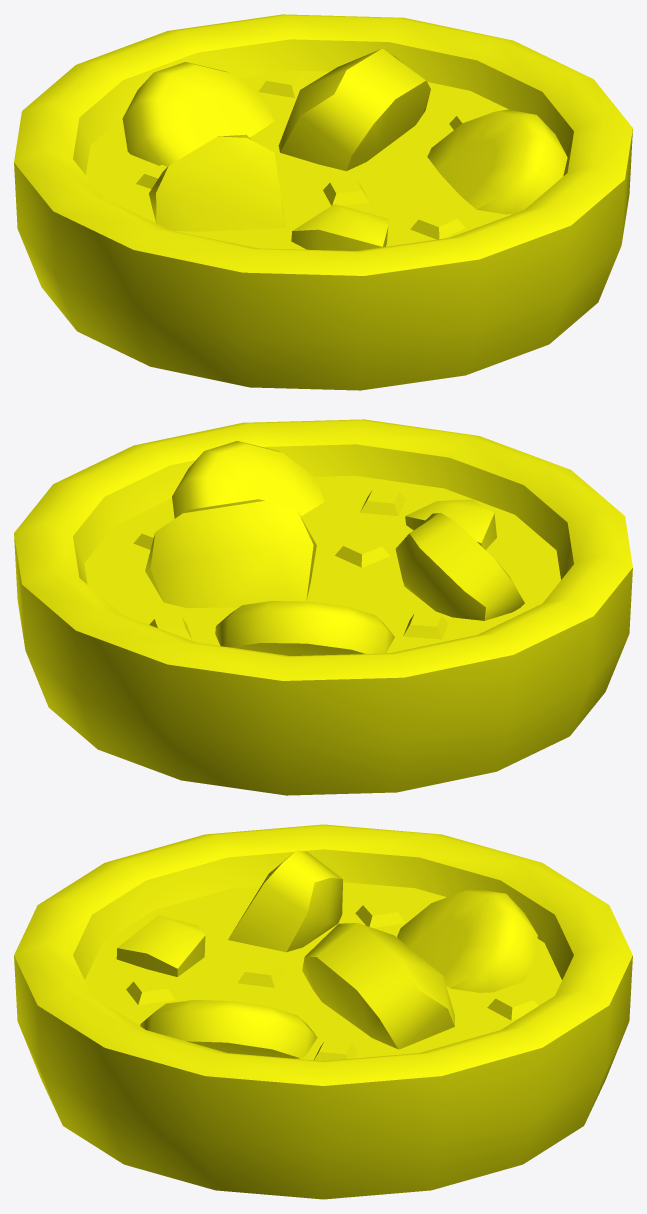
File: kaykit-food-stew.glb
3 views of the same model, one above another, from view 1: azimuth 30°, elevation 25°; view 2: azimuth 150°, elevation 25°; view 3: azimuth 270°, elevation 25° (orthographic).
Parts seen in each view (by area): view 1: food_stew; view 2: food_stew; view 3: food_stew.
Boxes of the visible parts, box(x1,y1,x2,y2) form: food_stew: box(14, 14, 632, 390); food_stew: box(14, 419, 632, 795); food_stew: box(14, 824, 632, 1199).
Bounding box in the file's own units: 0.95 × 0.3697 × 0.95.
